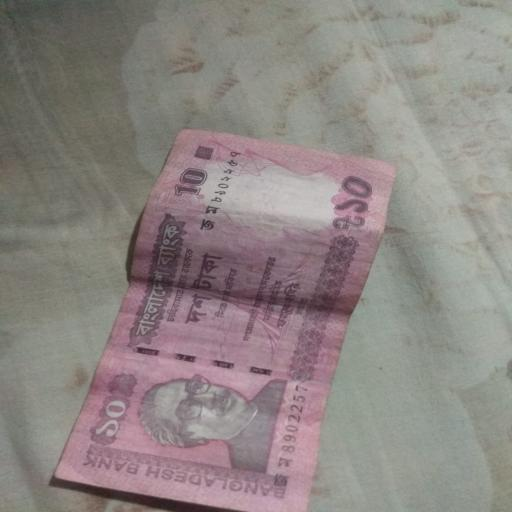10taka: (56, 130, 396, 512)
